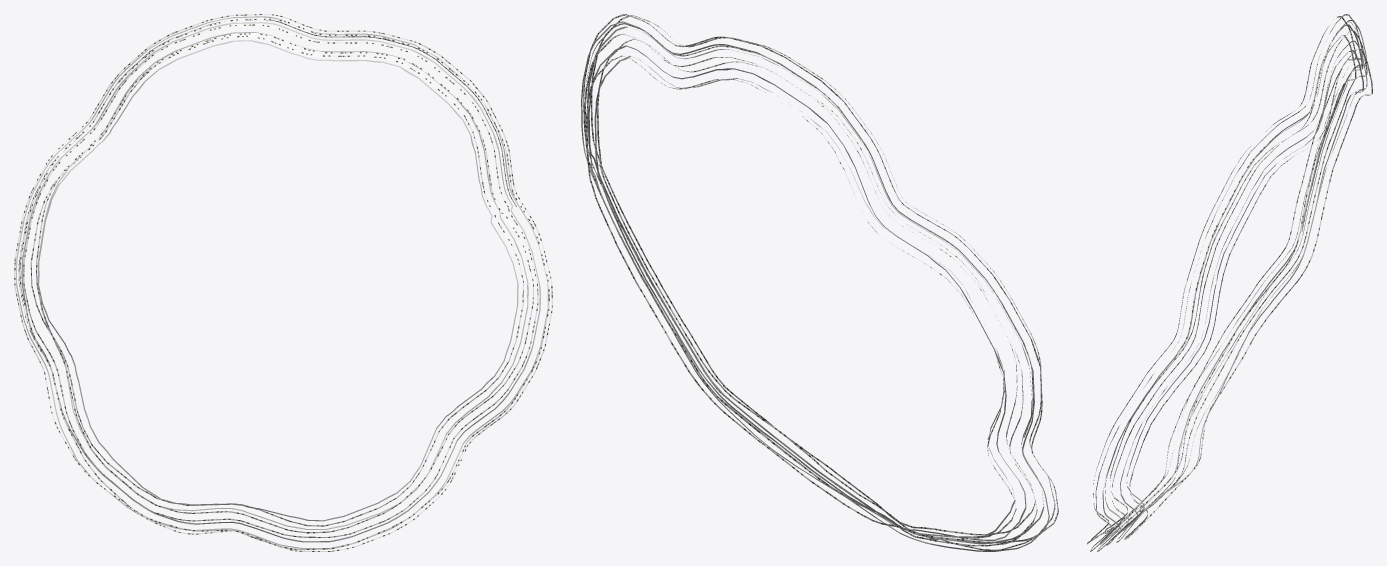
The model's file is VFX_Traffic_RimCity.fbx.
3 renders of one model, left to right at view 1: azimuth 30°, elevation 25°; view 2: azimuth 150°, elevation 25°; view 3: azimuth 270°, elevation 25°, orthographic. The views are drawn at different scales.
Parts seen in each view (by area): view 1: VFX_Traffic_RimCity; view 2: VFX_Traffic_RimCity; view 3: VFX_Traffic_RimCity.
Part boxes in pixels (box(x1,y1,x2,y2)): VFX_Traffic_RimCity: box(14, 14, 552, 551); VFX_Traffic_RimCity: box(581, 14, 1058, 551); VFX_Traffic_RimCity: box(1087, 14, 1372, 551).
Bounding box in the file's own units: 166350 × 164285 × 84561.
